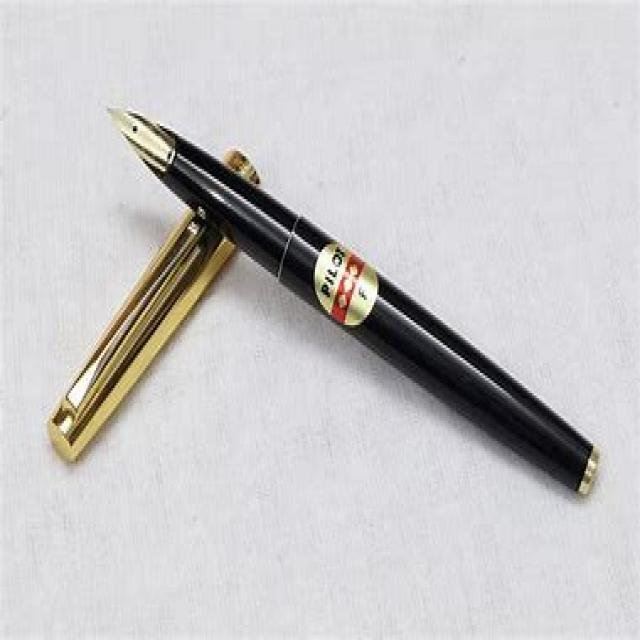pen: (100, 104, 602, 502)
